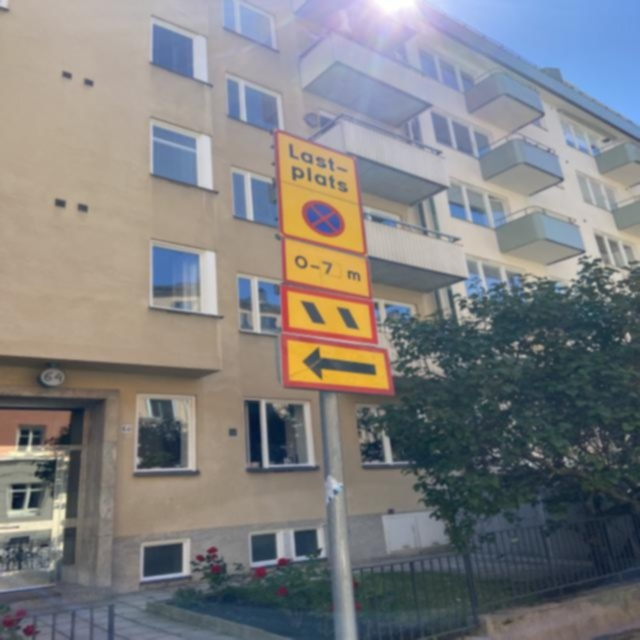lastplats: (276, 129, 372, 255)
